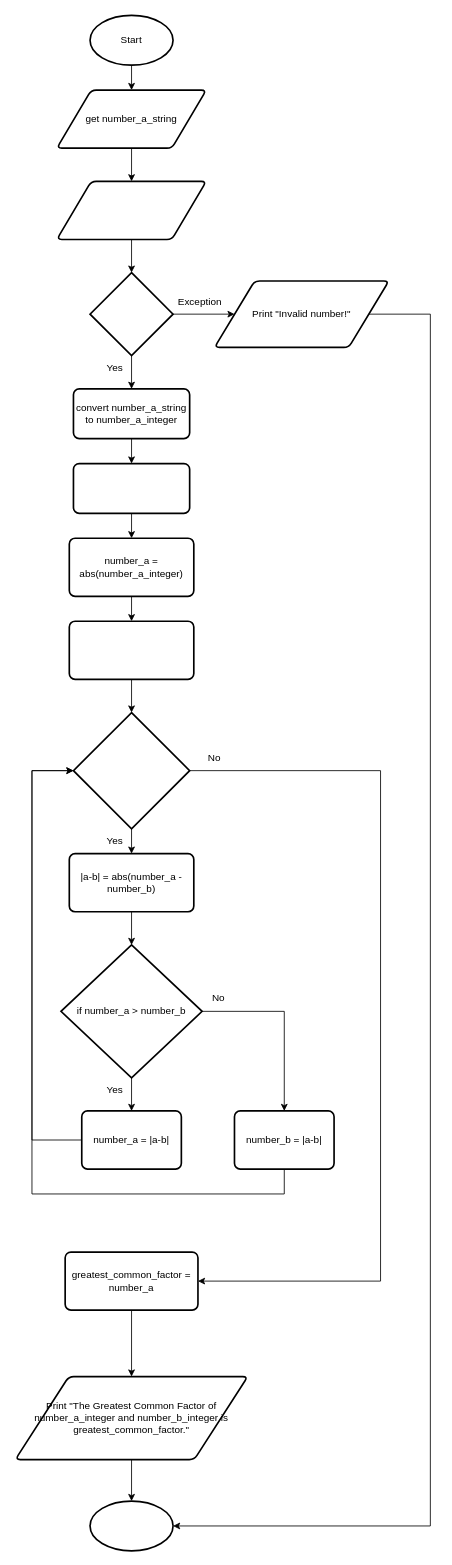
The diagram is 452 pixels wide and 1565 high, and some of its shapes have lost their labels. Here are the shapes that lost their labels. From the top down, the centre of each, then its label:
At point 131,210: "get number_b_string".
At point 131,313: "try".
At point 131,488: "convert number_b_string to number_b_integer".
At point 131,650: "number_b = abs(number_b_integer)".
At point 131,770: "while number_a - number_b != 0".
At point 131,1525: "Stop".
